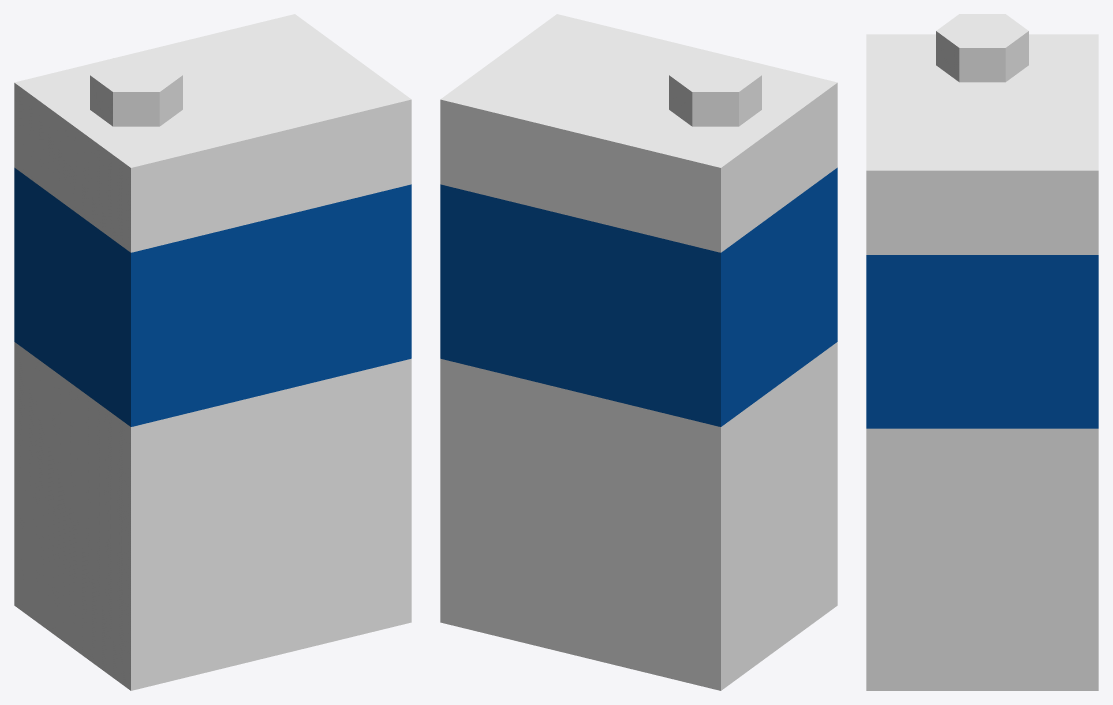
File: Milk.fbx
3 views of the same model, side by side, from view 1: azimuth 30°, elevation 25°; view 2: azimuth 150°, elevation 25°; view 3: azimuth 270°, elevation 25° (orthographic).
Visible parts, largest first — view 1: Milk; view 2: Milk; view 3: Milk.
Boxes of the visible parts, x1,y1,x2,y2 form: Milk: (14,14,411,690); Milk: (440,14,837,690); Milk: (866,14,1098,690).
Size of the model in its own units: 28.74 by 20.71 by 54.55.
